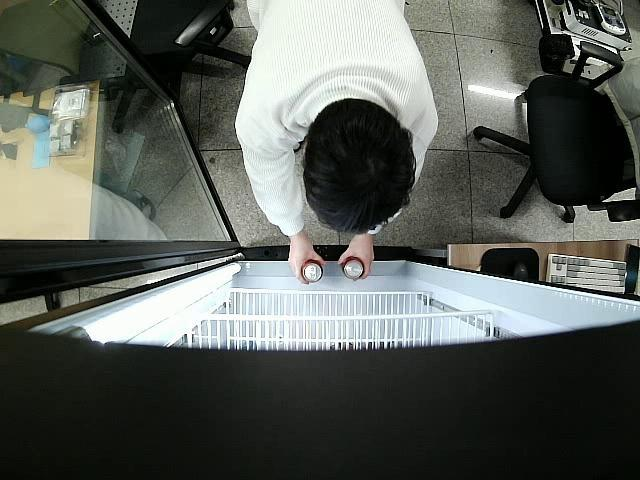11_cocaColaZero: (341, 256, 365, 280), (300, 258, 324, 282)
